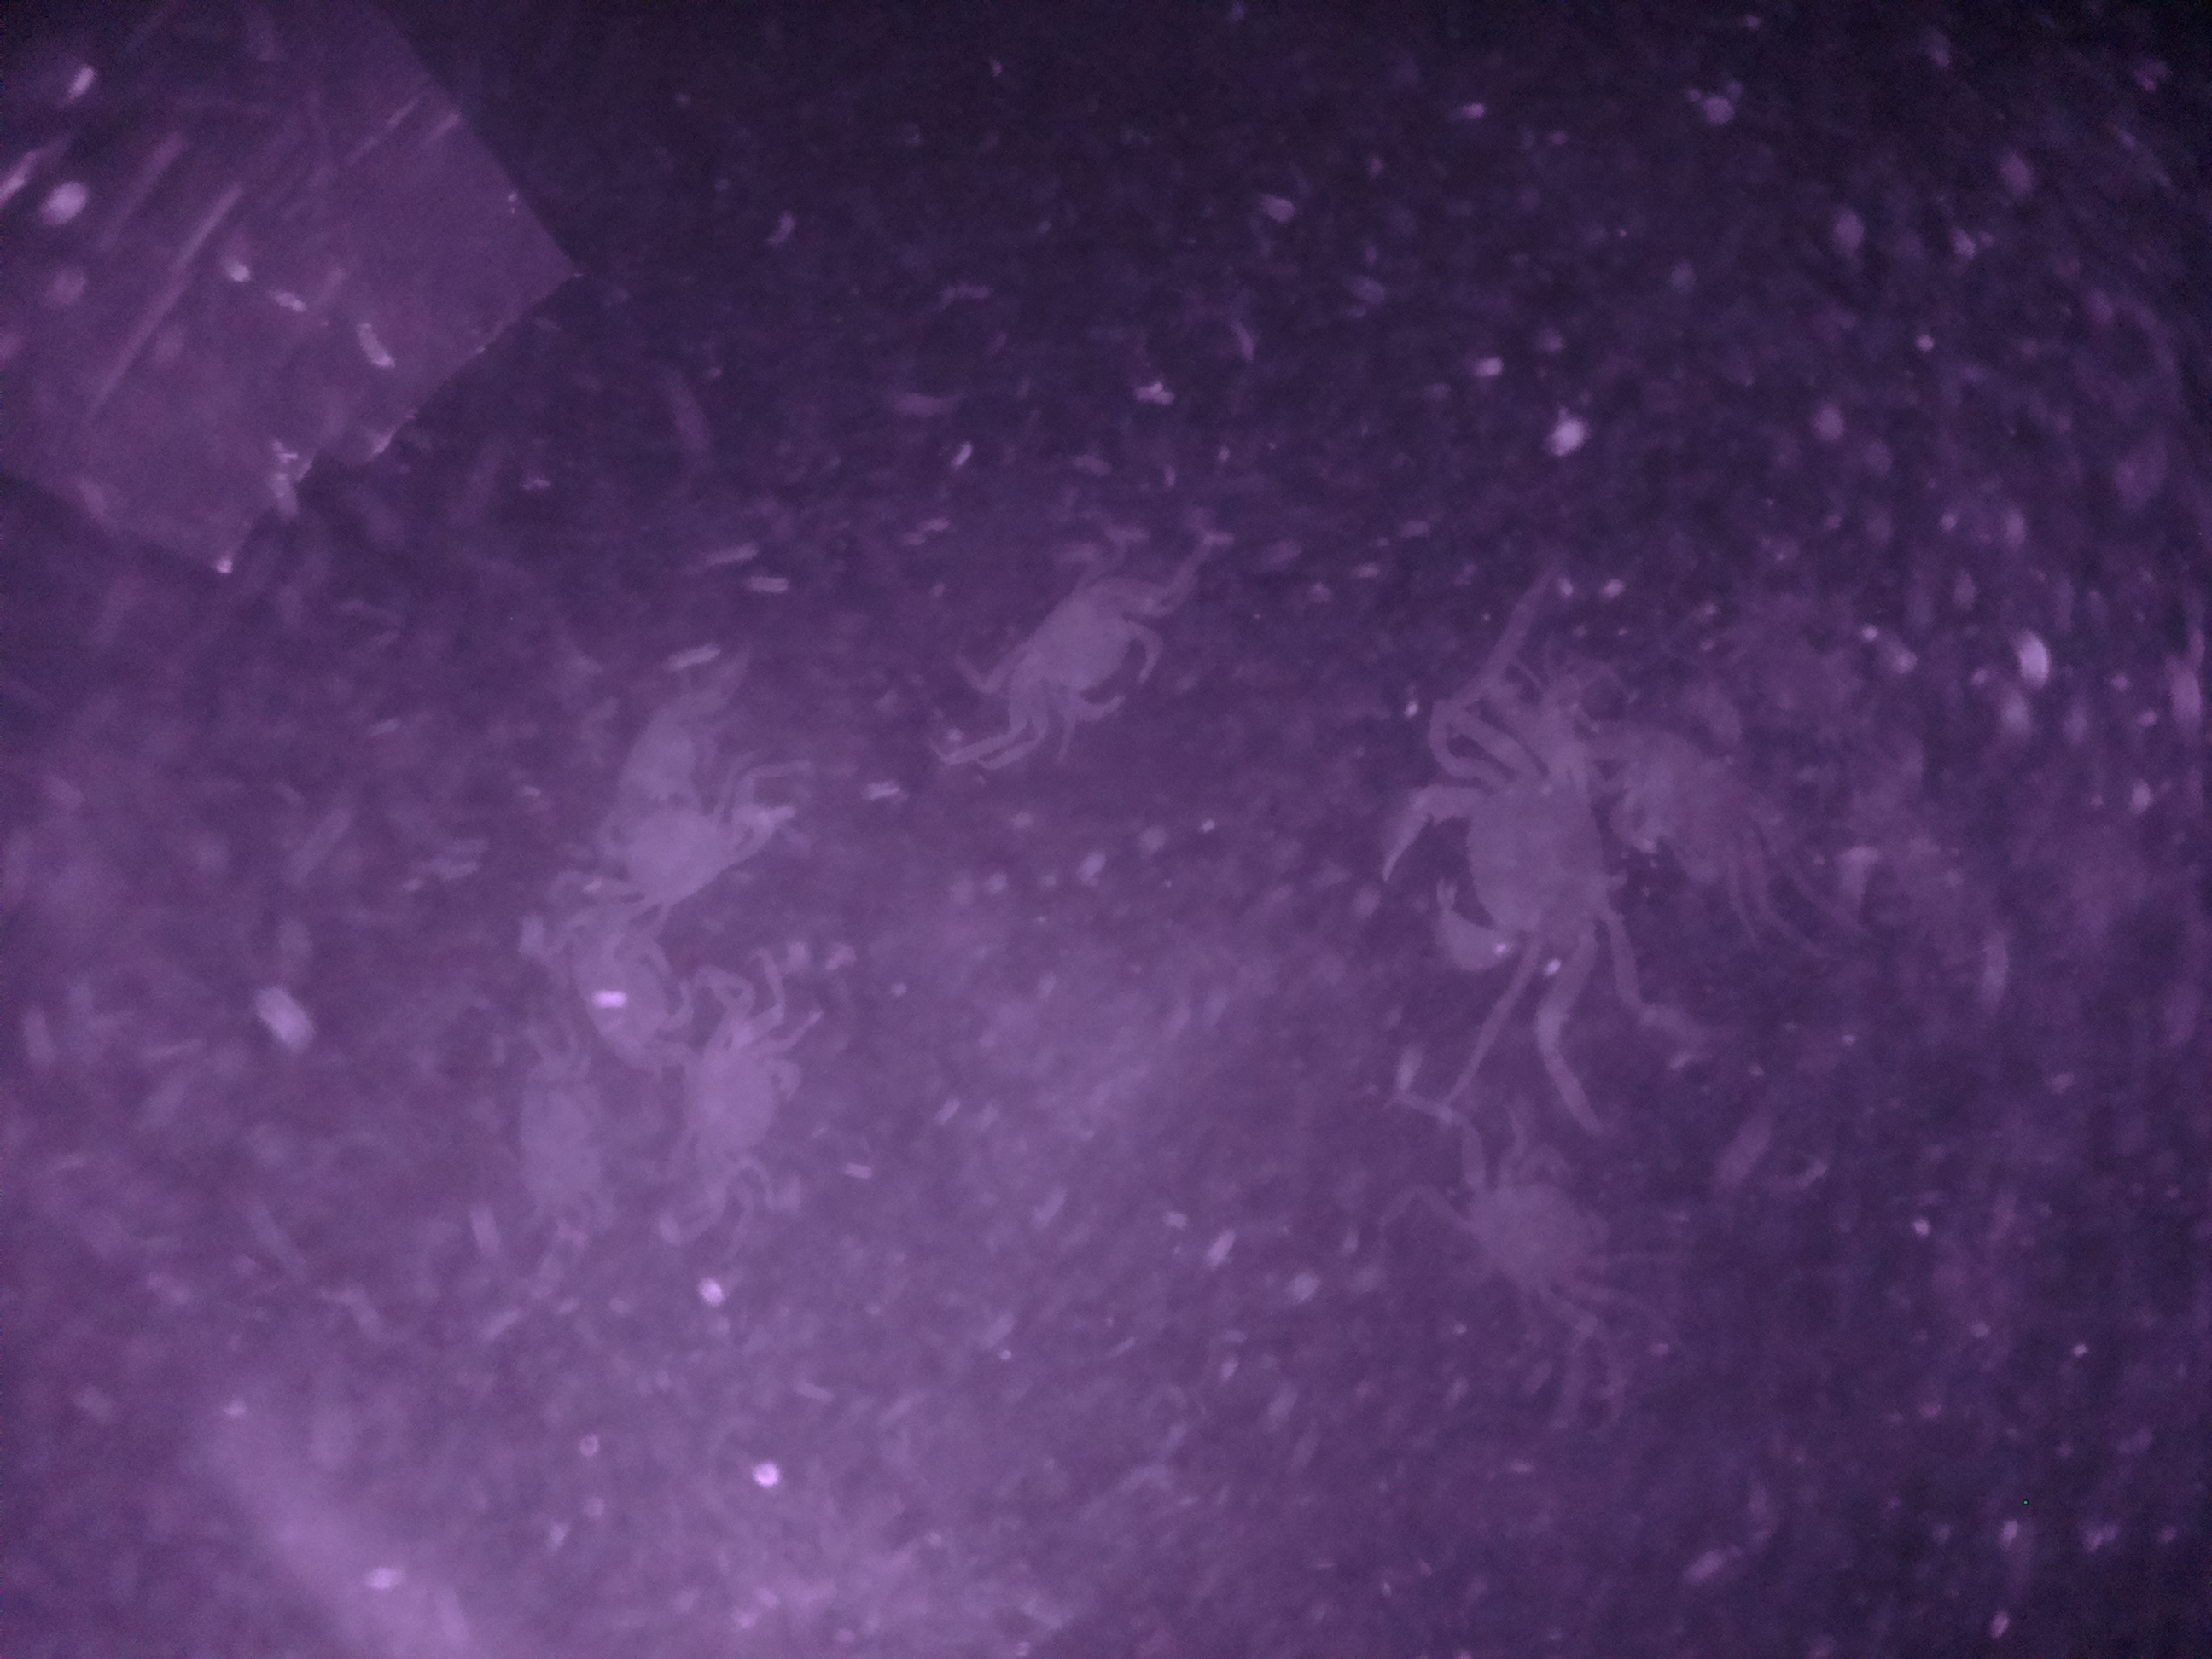Crab: (1371, 720, 1629, 1014), (982, 544, 1190, 758), (582, 758, 770, 946)
